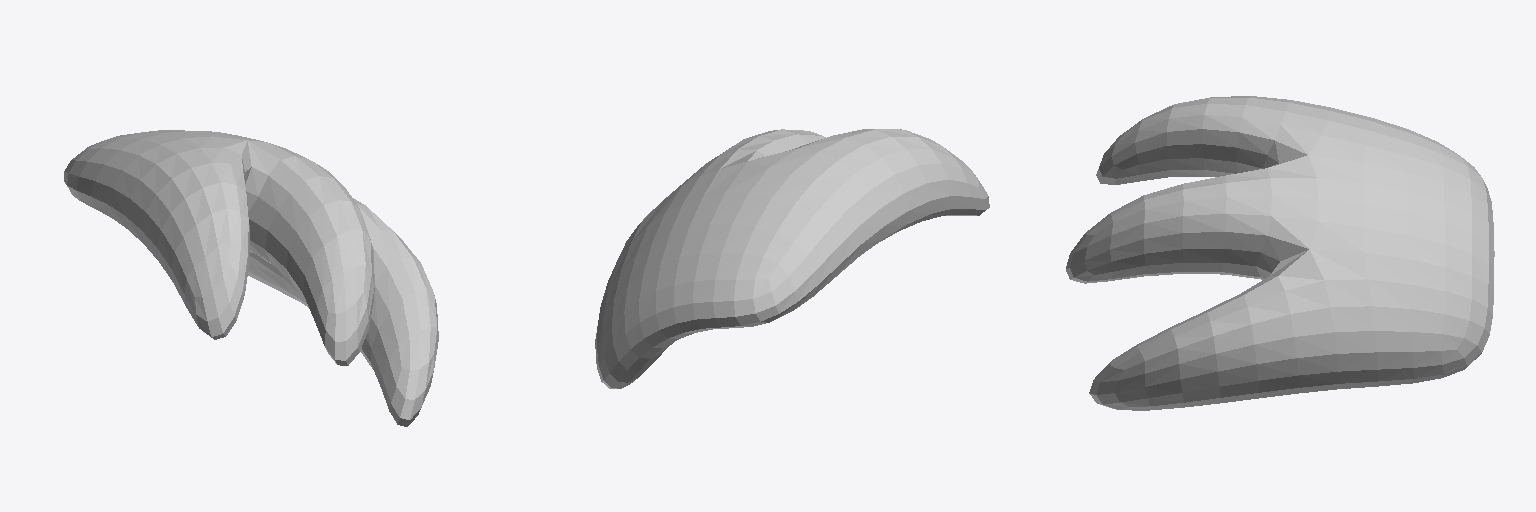
Rendered from szpon.obj.
3 views of the same model, side by side, from view 1: azimuth 30°, elevation 25°; view 2: azimuth 150°, elevation 25°; view 3: azimuth 270°, elevation 25° (orthographic).
Parts seen in each view (by area): view 1: Box002; view 2: Box002; view 3: Box002.
Boxes of the visible parts, <box> form: Box002: <box>64,130,438,426</box>; Box002: <box>595,129,989,388</box>; Box002: <box>1066,96,1494,410</box>.
Size of the model in its own units: 1.06 by 0.8826 by 1.42.